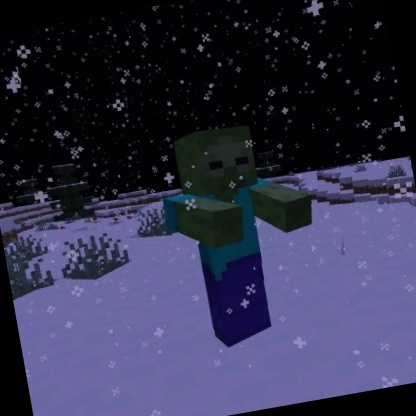zombie: (145, 107, 340, 362)
